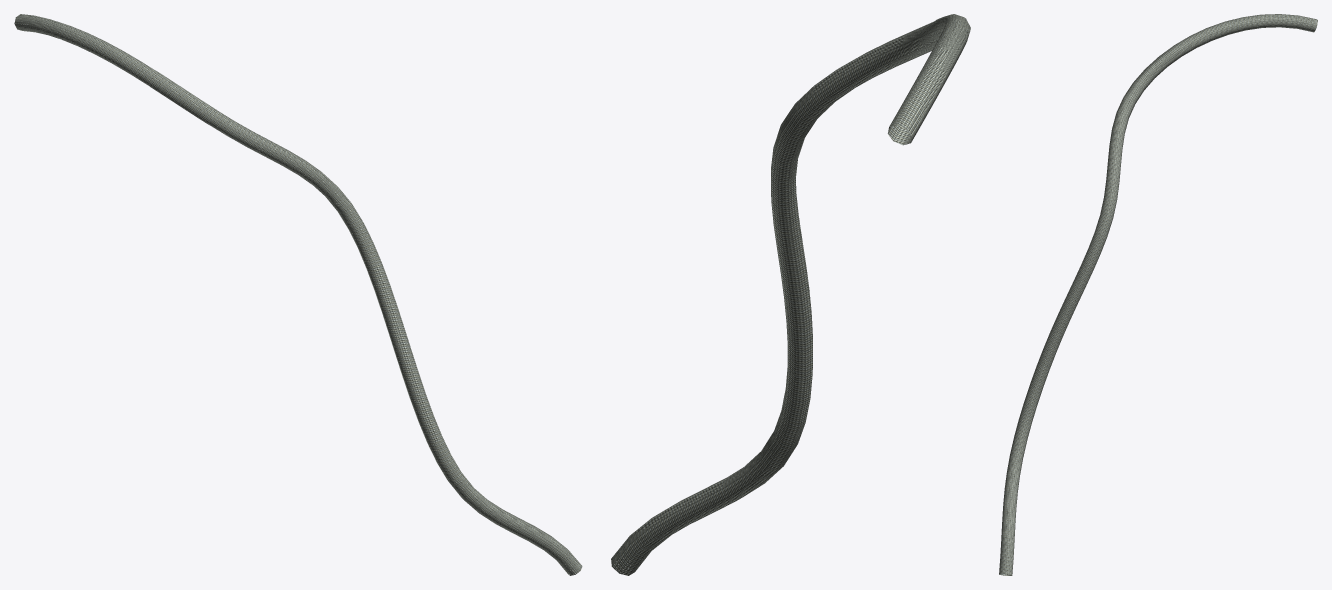
Rendered from microtubule55.fbx.
3 renders of one model, left to right at view 1: azimuth 30°, elevation 25°; view 2: azimuth 150°, elevation 25°; view 3: azimuth 270°, elevation 25°, orthographic. The views are drawn at different scales.
Visible parts, largest first — view 1: microtubule55; view 2: microtubule55; view 3: microtubule55.
Part boxes in pixels (<box>): microtubule55: <box>14,14,582,575</box>; microtubule55: <box>611,14,970,575</box>; microtubule55: <box>999,14,1317,575</box>.
Bounding box in the file's own units: 3797 × 4999 × 3414.
1 material, 1 textured.
